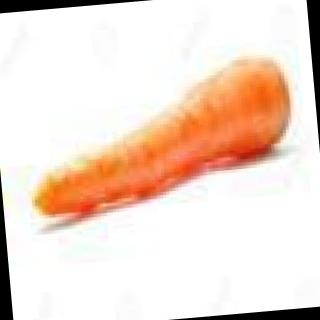Wortel: (12, 47, 304, 234)
